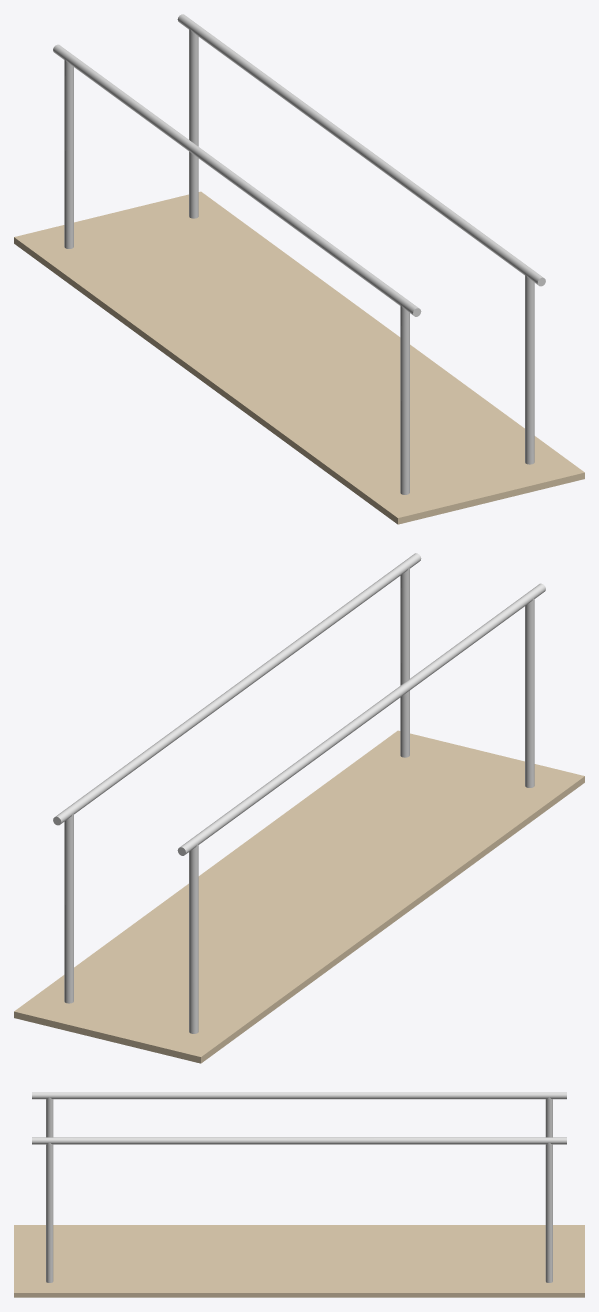
Rendered from hospital.treatment.physio_bars.glb.
3 views of the same model, one above another, from view 1: azimuth 30°, elevation 25°; view 2: azimuth 150°, elevation 25°; view 3: azimuth 270°, elevation 25° (orthographic). The views are drawn at different scales.
Parts seen in each view (by area): view 1: main__plywood, main__steel_stainless; view 2: main__plywood, main__steel_stainless; view 3: main__plywood, main__steel_stainless.
Boxes of the visible parts, box(x1,y1,x2,y2) form: main__plywood: box(14, 191, 584, 524); main__steel_stainless: box(53, 14, 545, 494); main__plywood: box(14, 730, 584, 1063); main__steel_stainless: box(53, 553, 545, 1033); main__plywood: box(14, 1225, 584, 1297); main__steel_stainless: box(32, 1092, 566, 1282).
Size of the model in its own units: 0.9 by 0.92 by 3.2.
